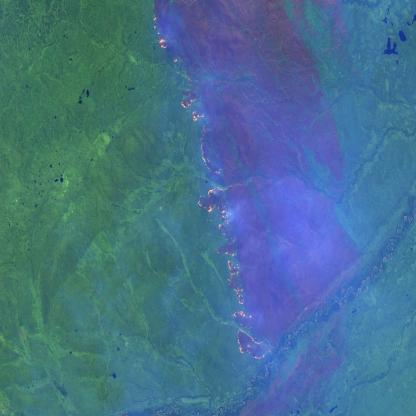fire: (150, 9, 270, 366)
